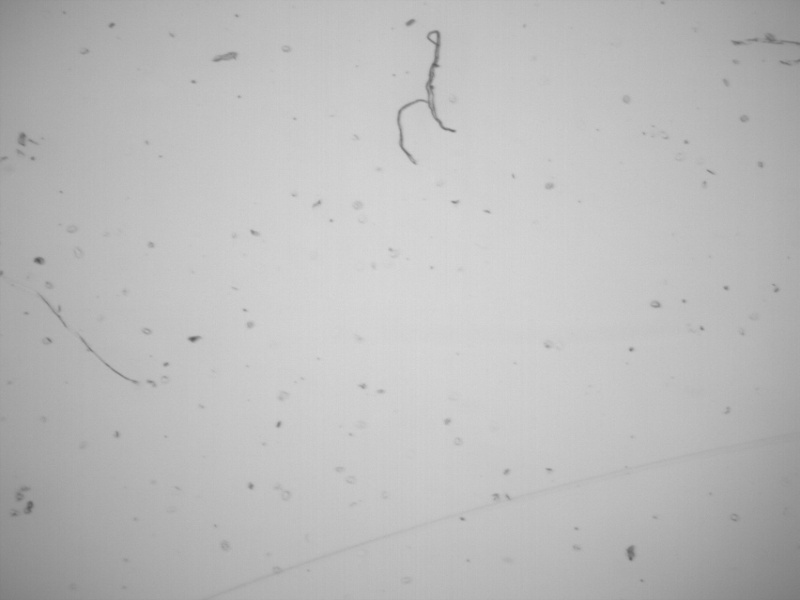fiber: (34, 288, 142, 386), (423, 27, 460, 135), (397, 97, 430, 169)
